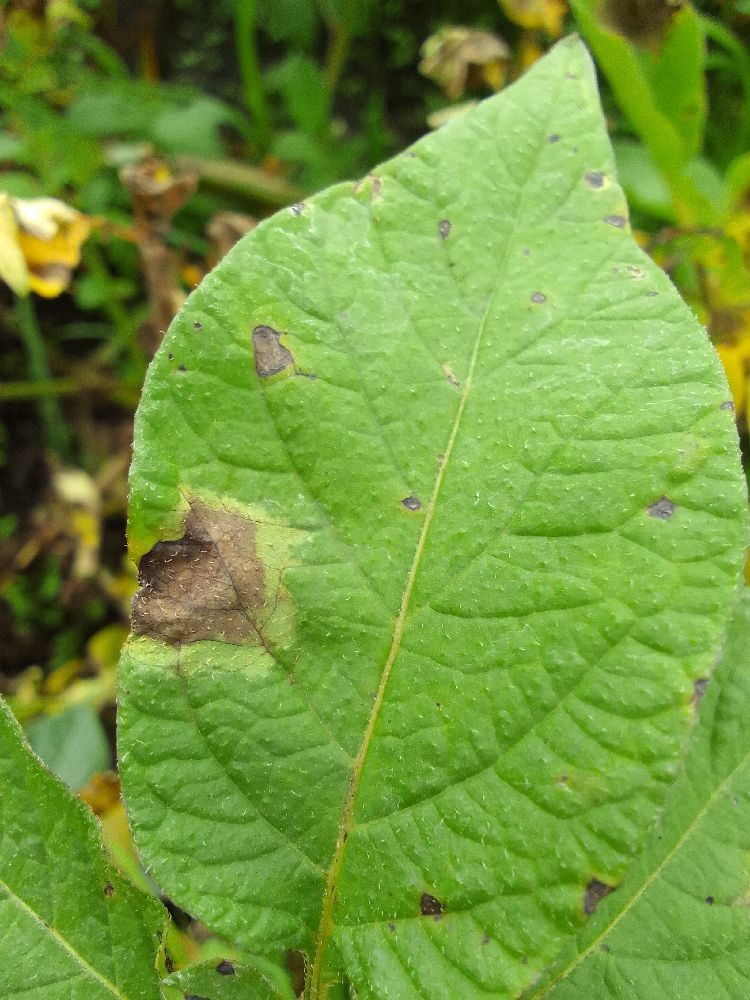late_blight: (0, 335, 302, 738), (282, 0, 603, 184), (0, 0, 280, 150), (590, 0, 706, 65)
